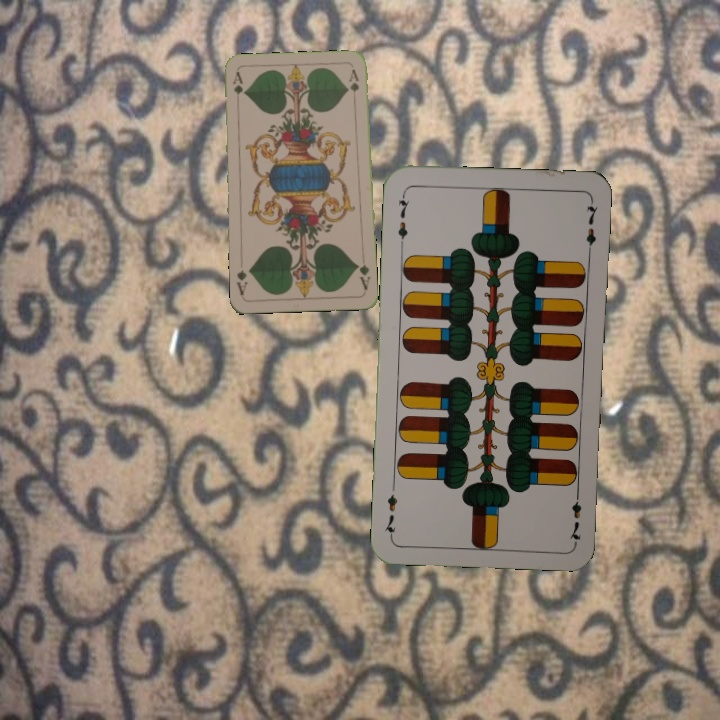E7: (393, 189, 413, 248), (565, 486, 584, 545)
GA: (353, 253, 373, 292), (228, 69, 245, 109)
